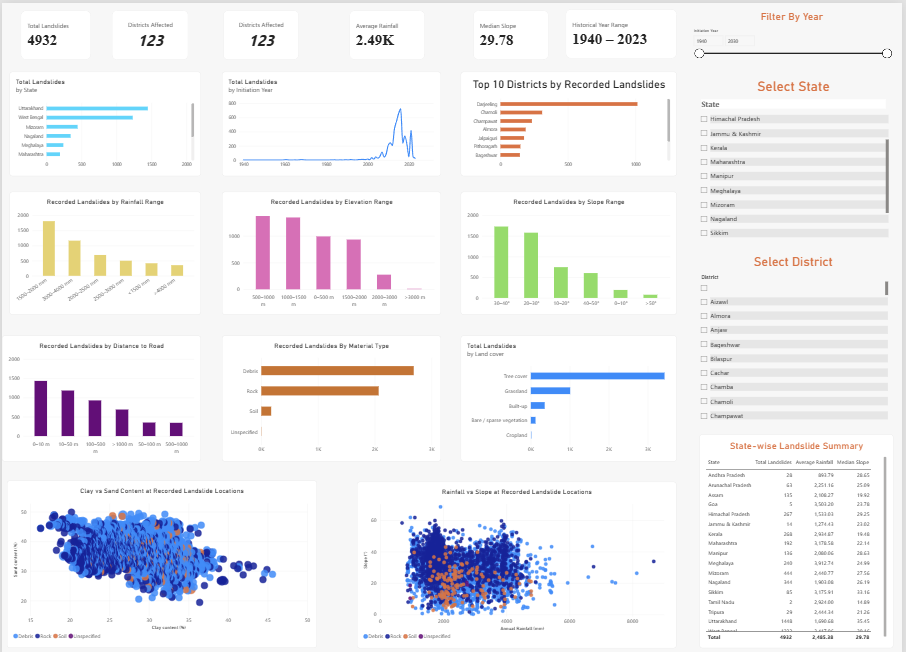

The dashboard page shown, as its layout file describes it:
{"tool":"powerbi","page":{"name":"Page 1","canvas":[2400,1750],"ordinal":0},"visuals":[{"type":"cardVisual","fields":{"Data":["dashboard_landslides.Total Landslides"]},"box":[51.5,18.5,187.3,131.7],"z":0},{"type":"cardVisual","fields":{"Data":["dashboard_landslides.Districts Affected"]},"box":[588.7,18.5,201.7,131.7],"z":1000},{"type":"cardVisual","fields":{"Data":["dashboard_landslides.Districts Affected"]},"box":[292.3,18.5,203.8,131.7],"z":2000},{"type":"cardVisual","fields":{"Data":["dashboard_landslides.Average Rainfall"]},"box":[928.3,18.5,201.7,131.7],"z":3000},{"type":"cardVisual","fields":{"Data":["dashboard_landslides.Historical Year Range"]},"box":[1502,18,296.4,131.7],"z":4000},{"type":"cardVisual","fields":{"Data":["dashboard_landslides.Median Slope"]},"box":[1255.6,18.5,201.7,131.7],"z":5000},{"type":"lineChart","fields":{"Category":["dashboard_landslides.Initiation Year"],"Y":["dashboard_landslides.Total Landslides"]},"box":[588,184,584,278],"z":6000},{"type":"clusteredBarChart","fields":{"Category":["dashboard_landslides.State"],"Y":["dashboard_landslides.Total Landslides"]},"box":[20,184,510,278],"z":7000},{"type":"clusteredBarChart","title":"Top 10 Districts by Recorded Landslides","fields":{"Category":["dashboard_landslides.District"],"Y":["dashboard_landslides.Total Landslides"]},"box":[1222,184,576,278],"z":8000},{"type":"map","fields":{"Series":["dashboard_landslides.State"],"Size":["dashboard_landslides.Total Landslides"],"X":["dashboard_landslides.Longitude"],"Y":["dashboard_landslides.Latitude"]},"box":[1566,1302,176,182],"z":9000},{"type":"clusteredColumnChart","title":"Recorded Landslides by Rainfall Range","fields":{"Category":["dashboard_landslides.Rainfall Band"],"Y":["dashboard_landslides.Total Landslides"]},"box":[20,504,510,328],"z":10000},{"type":"clusteredColumnChart","title":"Recorded Landslides by Elevation Range","fields":{"Category":["dashboard_landslides.Elevation Band"],"Y":["dashboard_landslides.Total Landslides"]},"box":[588,504,584,328],"z":11000},{"type":"clusteredColumnChart","title":"Recorded Landslides by Slope Range","fields":{"Category":["dashboard_landslides.Slope Band"],"Y":["dashboard_landslides.Total Landslides"]},"box":[1222,504,576,328],"z":12000},{"type":"clusteredBarChart","fields":{"Category":["dashboard_landslides.Land cover"],"Y":["dashboard_landslides.Total Landslides"]},"box":[1222,888,576,336],"z":12001},{"type":"clusteredBarChart","title":"Recorded Landslides By Material Type","fields":{"Category":["dashboard_landslides.Material Involved"],"Y":["dashboard_landslides.Total Landslides"]},"box":[588,888,584,336],"z":12002},{"type":"clusteredColumnChart","title":"Recorded Landslides by Distance to Road","fields":{"Category":["dashboard_landslides.Road Distance Band"],"Y":["dashboard_landslides.Total Landslides"]},"box":[0,888,530,336],"z":12003},{"type":"scatterChart","title":"Clay vs Sand Content at Recorded Landslide Locations","fields":{"Series":["dashboard_landslides.Material Involved"],"Size":["dashboard_landslides.Total Landslides"],"X":["dashboard_landslides.Clay content (%)"],"Y":["dashboard_landslides.Sand content (%)"]},"box":[12,1274,826,446],"z":12004},{"type":"scatterChart","title":"Rainfall vs Slope at Recorded Landslide Locations","fields":{"Series":["dashboard_landslides.Material Involved"],"X":["dashboard_landslides.Annual Rainfall (mm)"],"Y":["dashboard_landslides.Slope (°)"]},"box":[946,1276,852,444],"z":12005},{"type":"tableEx","title":"State-wise Landslide Summary","fields":{"Values":["dashboard_landslides.State","dashboard_landslides.Total Landslides","dashboard_landslides.Average Rainfall","dashboard_landslides.Median Slope"]},"box":[1860,1150,516.7,570],"z":12006},{"type":"slicer","title":"Select State","fields":{"Values":["dashboard_landslides.State"]},"box":[1855,200,508.3,440],"z":12007},{"type":"slicer","title":"Select District","fields":{"Values":["dashboard_landslides.District"]},"box":[1856.7,668.3,506.7,443.3],"z":12008},{"type":"slicer","title":"Filter By Year","fields":{"Values":["dashboard_landslides.Initiation Year"]},"box":[1836.7,18.3,540,165],"z":12009}]}

Visuals, with their boxes in screenshot pixels (x1, y1, x2, y2), scaled from the page's 2400x1750 canvas onto the 906x652 screenshot:
cardVisual - dashboard_landslides.Total Landslides: rect(19, 7, 90, 56)
cardVisual - dashboard_landslides.Districts Affected: rect(222, 7, 298, 56)
cardVisual - dashboard_landslides.Districts Affected: rect(110, 7, 187, 56)
cardVisual - dashboard_landslides.Average Rainfall: rect(350, 7, 427, 56)
cardVisual - dashboard_landslides.Historical Year Range: rect(567, 7, 679, 56)
cardVisual - dashboard_landslides.Median Slope: rect(474, 7, 550, 56)
lineChart - dashboard_landslides.Initiation Year x dashboard_landslides.Total Landslides: rect(222, 69, 442, 172)
clusteredBarChart - dashboard_landslides.State x dashboard_landslides.Total Landslides: rect(8, 69, 200, 172)
"Top 10 Districts by Recorded Landslides" clusteredBarChart: rect(461, 69, 679, 172)
map - dashboard_landslides.State x dashboard_landslides.Total Landslides: rect(591, 485, 658, 553)
"Recorded Landslides by Rainfall Range" clusteredColumnChart: rect(8, 188, 200, 310)
"Recorded Landslides by Elevation Range" clusteredColumnChart: rect(222, 188, 442, 310)
"Recorded Landslides by Slope Range" clusteredColumnChart: rect(461, 188, 679, 310)
clusteredBarChart - dashboard_landslides.Land cover x dashboard_landslides.Total Landslides: rect(461, 331, 679, 456)
"Recorded Landslides By Material Type" clusteredBarChart: rect(222, 331, 442, 456)
"Recorded Landslides by Distance to Road" clusteredColumnChart: rect(0, 331, 200, 456)
"Clay vs Sand Content at Recorded Landslide Locations" scatterChart: rect(5, 475, 316, 641)
"Rainfall vs Slope at Recorded Landslide Locations" scatterChart: rect(357, 475, 679, 641)
"State-wise Landslide Summary" tableEx: rect(702, 428, 897, 641)
"Select State" slicer: rect(700, 75, 892, 238)
"Select District" slicer: rect(701, 249, 892, 414)
"Filter By Year" slicer: rect(693, 7, 897, 68)
